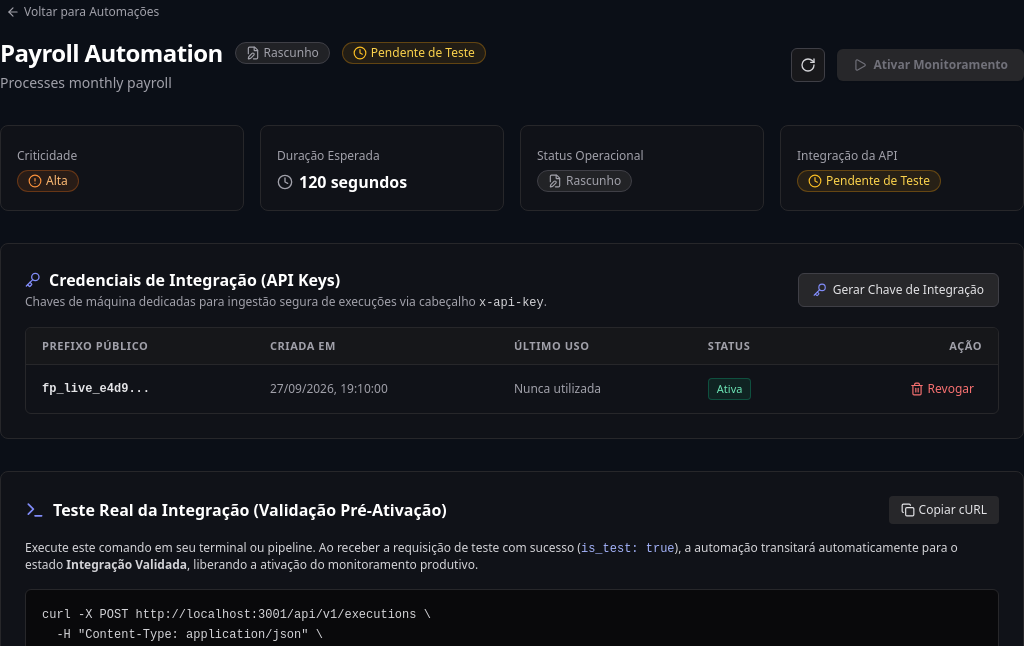
AutomationDetailView Component › should generate API key, display secret ONE-TIME in volatile modal, and discard cleanly on close without persisting in storage
The width and height of the screenshot is (1024, 646).
Click generate button
Step 1. Click the button with test id "generate-key-button" → click(898, 290), box x1=798 y1=272 x2=999 y2=306
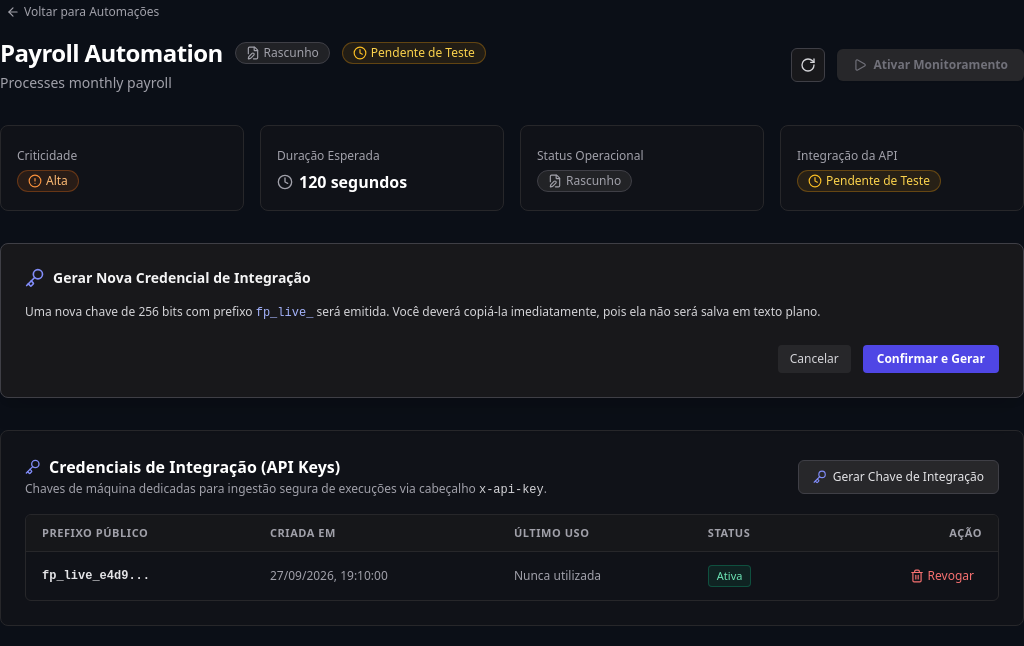
Result: the dialog with test id "generate-confirm-modal" is shown at x1=0 y1=243 x2=1023 y2=398
Confirm generation
Step 2. Click the button with test id "confirm-generate-key-button" → click(931, 359), box x1=863 y1=345 x2=999 y2=373
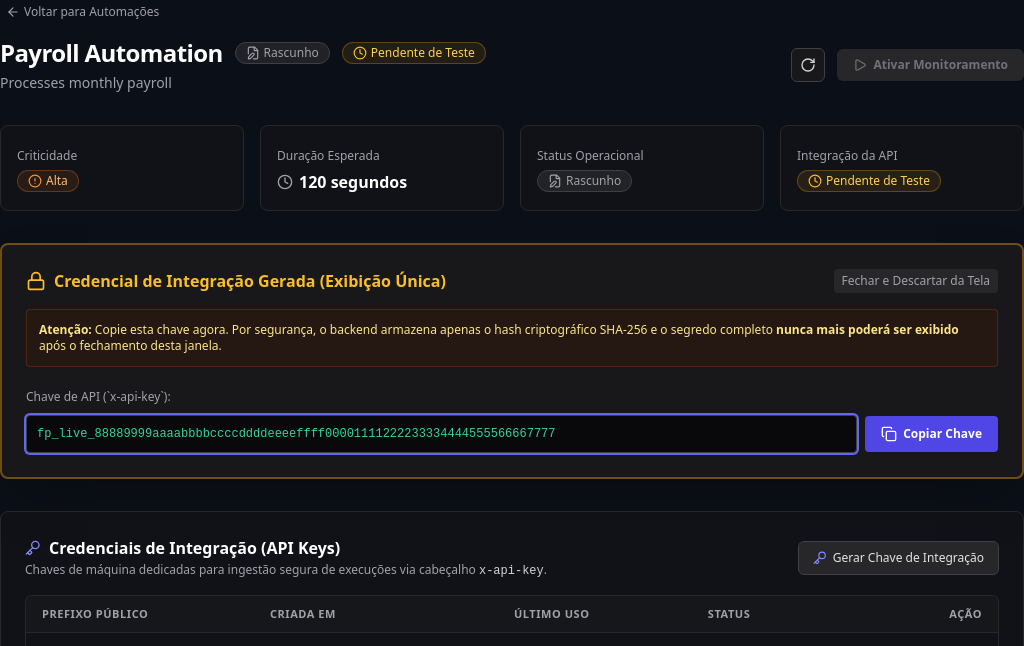
Result: the dialog with test id "volatile-secret-modal" is shown at x1=0 y1=243 x2=1023 y2=479
Result: the field with test id "volatile-secret-input" holds "fp_live_88889999aaaabbbbccccddddeeeeffff00001111222233334444555566667777" at x1=26 y1=415 x2=857 y2=453
Result: the button with test id "copy-secret-button" is shown at x1=865 y1=416 x2=998 y2=452
Close and discard modal
Step 3. Click the button with test id "close-secret-modal-button" → click(916, 281), box x1=834 y1=269 x2=998 y2=293
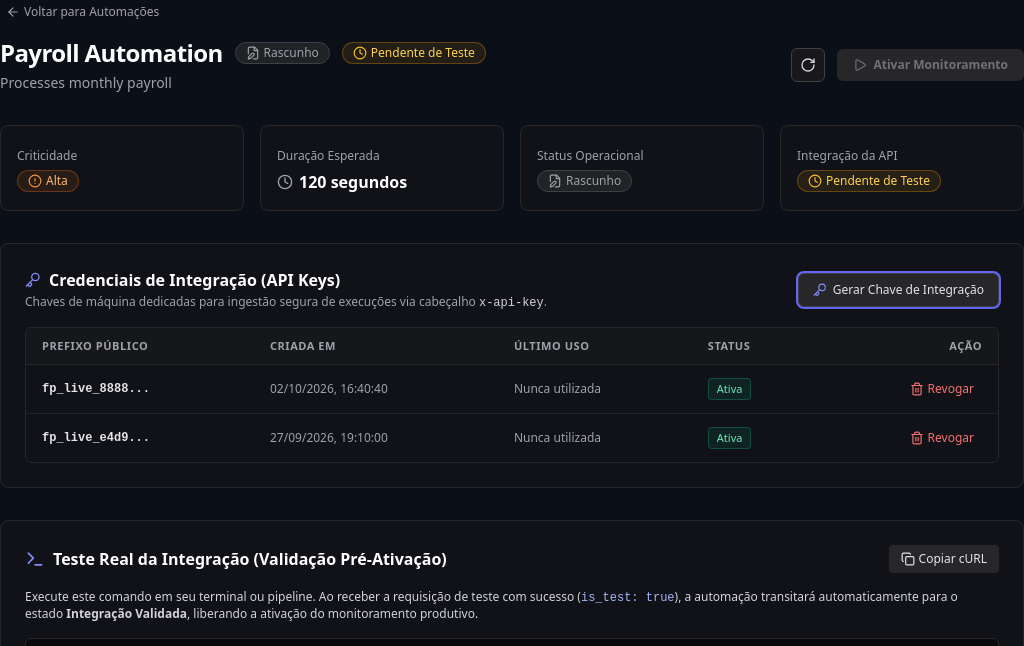
Expected: the text "fp_live_88889999aaaabbbbccccddddeeeeffff00001111222233334444555566667777" is not shown
Result: the dialog with test id "volatile-secret-modal" is gone
